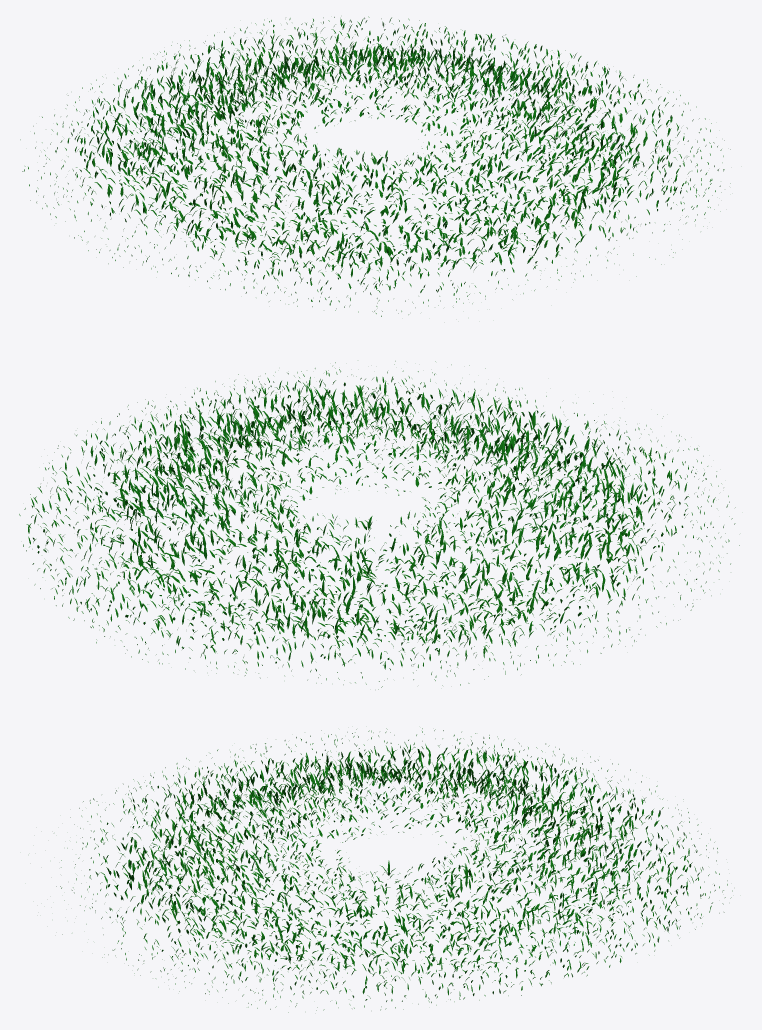
The model's file is 02_Grass30k_02.fbx.
The picture shows the model from 3 angles, top to bottom: view 1: azimuth 30°, elevation 25°; view 2: azimuth 150°, elevation 25°; view 3: azimuth 270°, elevation 25°; orthographic projection. The views are drawn at different scales.
Parts seen in each view (by area): view 1: Grass6k_geo, Grass12k_geo.001; view 2: Grass6k_geo, Grass12k_geo.001; view 3: Grass6k_geo, Grass12k_geo.001.
Part boxes in pixels (bbox=[...]): Grass6k_geo: bbox=[20, 16, 730, 316]; Grass12k_geo.001: bbox=[117, 48, 639, 271]; Grass6k_geo: bbox=[19, 361, 739, 689]; Grass12k_geo.001: bbox=[86, 407, 644, 645]; Grass6k_geo: bbox=[56, 728, 732, 1012]; Grass12k_geo.001: bbox=[137, 764, 635, 977].
Bounding box in the file's own units: 4792 × 388 × 5037.
